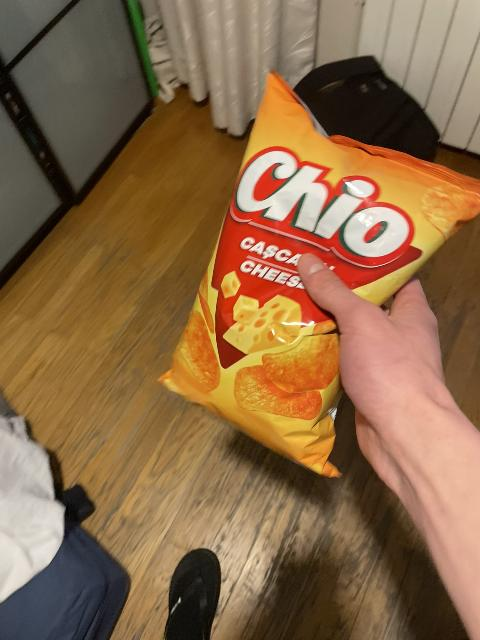Chio Cascaval 125g: (156, 76, 478, 475)
